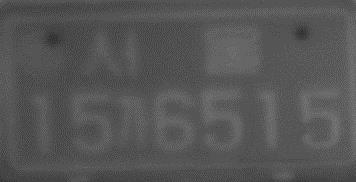1: (26, 90, 59, 160), (253, 86, 283, 155)
5: (199, 86, 246, 154), (297, 82, 343, 150), (70, 91, 116, 153)
6: (154, 88, 197, 156)
가: (115, 92, 155, 155)
서울_D: (78, 21, 266, 83)
영: (18, 28, 68, 84)
